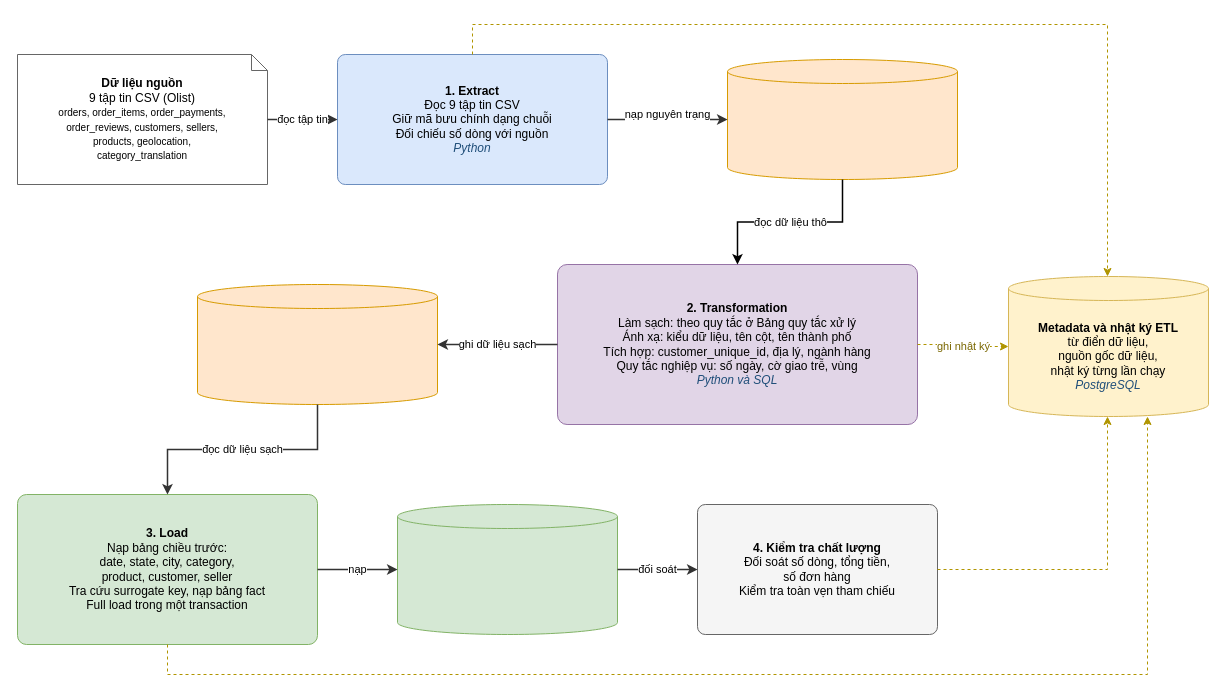
This 1226x700 diagram has some shape labels left out. The shapes that lost their labels are listed below. From the top down, each one's centre as x and y in pixels, then its label:
the point at 842,119: Staging: bảng thô raw_orders, raw_order_items, ... PostgreSQL, schema staging
the point at 317,344: Staging: bảng đã làm sạch dữ liệu sẵn sàng để nạp PostgreSQL, schema staging
the point at 507,569: Data Mart snowflake schema PostgreSQL
